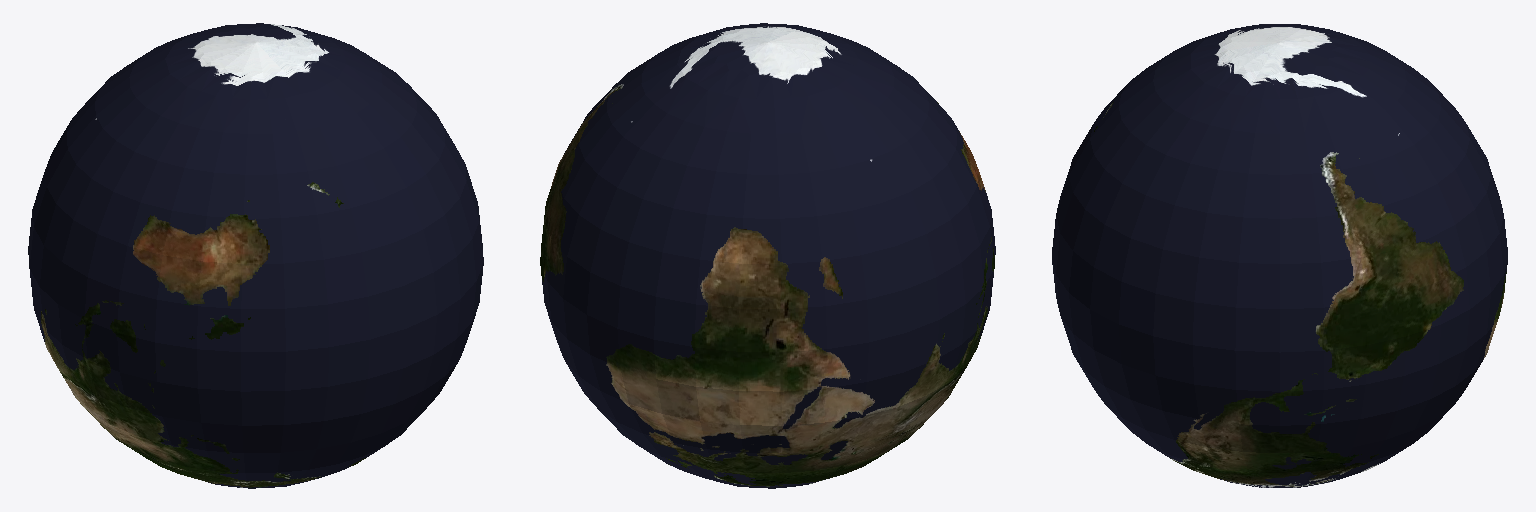
3 views of the same model, side by side, from view 1: azimuth 30°, elevation 25°; view 2: azimuth 150°, elevation 25°; view 3: azimuth 270°, elevation 25° (orthographic).
Visible parts, largest first — view 1: sphere1; view 2: sphere1; view 3: sphere1.
Boxes of the visible parts, <box> form: sphere1: <box>28,23,483,488</box>; sphere1: <box>540,23,995,488</box>; sphere1: <box>1052,24,1507,487</box>.
Bounding box in the file's own units: 1.92 × 1.98 × 1.92.
Materials: 1 (1 with a texture image).